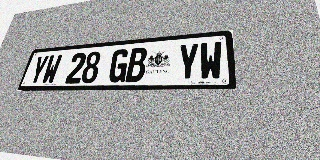2: (65, 52, 87, 84)
8: (80, 51, 103, 83)
B: (125, 47, 148, 82)
G: (107, 49, 130, 83)
W: (199, 41, 223, 80), (40, 54, 63, 84)
Y: (176, 43, 199, 81), (28, 55, 50, 85)
